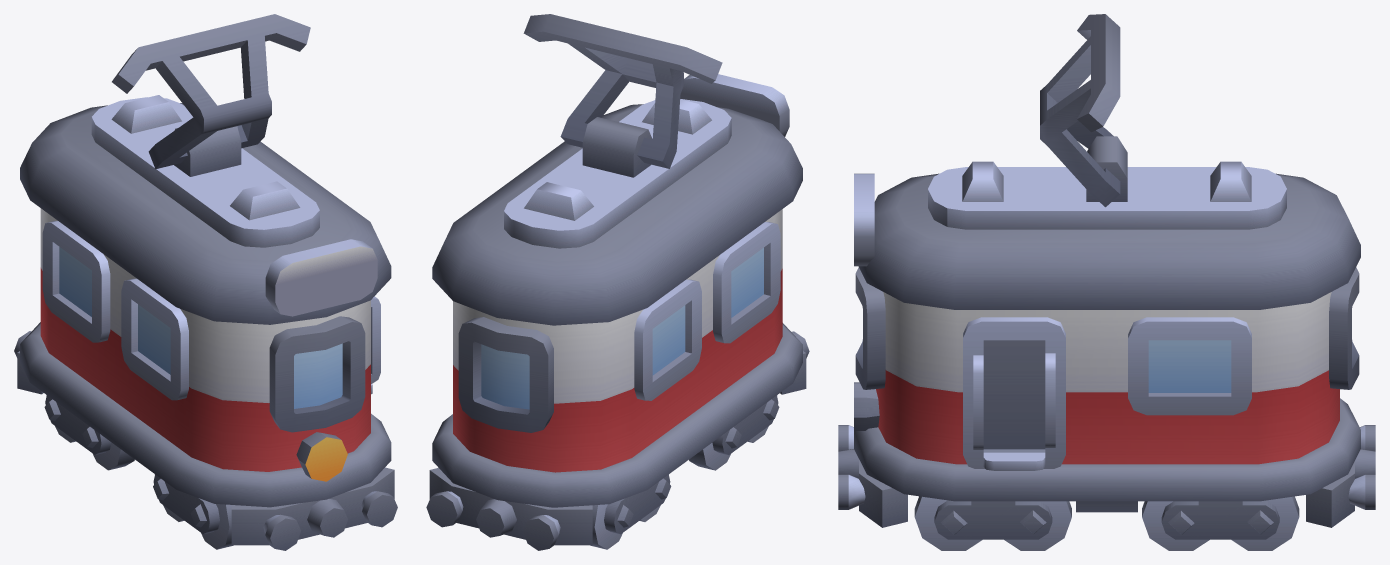
Rendered from train-tram-round.obj.
The picture shows the model from 3 angles, left to right: view 1: azimuth 30°, elevation 25°; view 2: azimuth 150°, elevation 25°; view 3: azimuth 270°, elevation 25°; orthographic projection. The views are drawn at different scales.
Parts seen in each view (by area): view 1: train-tram-round, collector, Group, wheels-front, wheels-back; view 2: train-tram-round, collector, Group, wheels-back, wheels-front; view 3: train-tram-round, Group, collector, wheels-front, wheels-back.
Boxes of the visible parts, x1,y1,x2,y2 form: train-tram-round: (14, 95, 397, 550); collector: (112, 14, 310, 169); Group: (91, 97, 319, 247); wheels-front: (153, 474, 233, 549); wheels-back: (44, 395, 134, 470); train-tram-round: (426, 74, 809, 550); collector: (523, 14, 722, 168); Group: (504, 99, 731, 248); wheels-back: (590, 474, 671, 549); wheels-front: (689, 395, 779, 470); train-tram-round: (838, 136, 1375, 527); Group: (928, 167, 1286, 229); collector: (1040, 14, 1120, 207); wheels-front: (914, 496, 1071, 550); wheels-back: (1142, 496, 1299, 550).
Size of the model in its own units: 1.25 by 2.49 by 2.6.
1 material, 1 textured.
